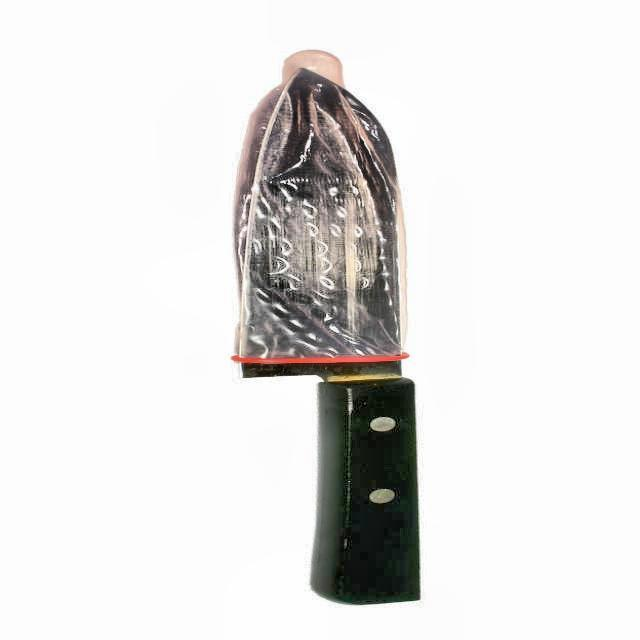knife: (218, 68, 444, 618)
